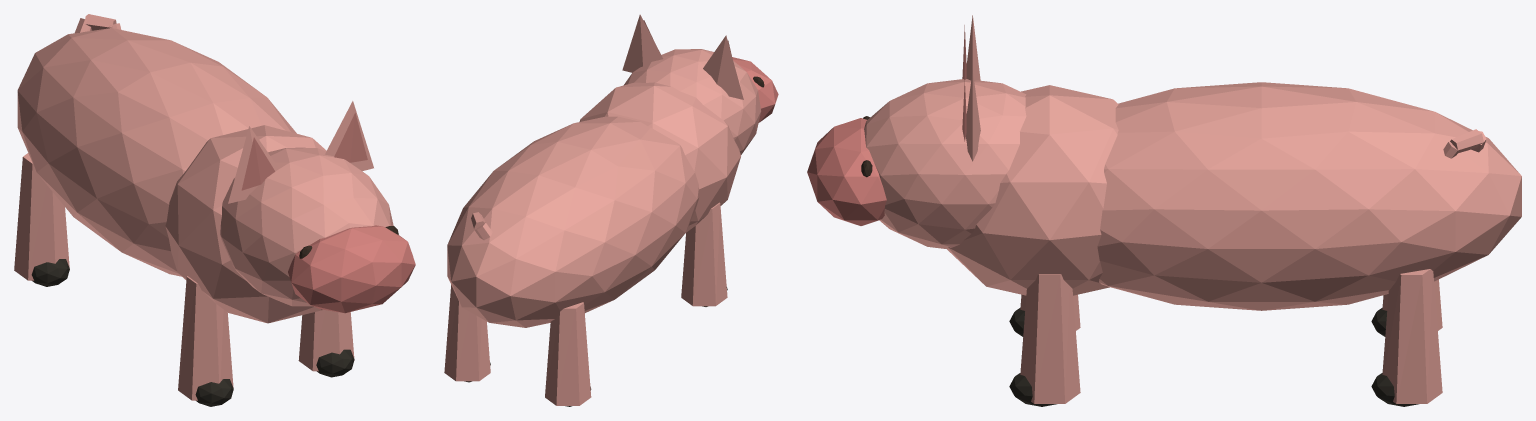
File: low-poly-pig.glb
3 renders of one model, left to right at view 1: azimuth 30°, elevation 25°; view 2: azimuth 150°, elevation 25°; view 3: azimuth 270°, elevation 25°, orthographic. The views are drawn at different scales.
Visible parts, largest first — view 1: pig-body-mesh, pig-head-mesh, pig-chest-mesh, pig-muzzle-mesh, pig-leg-front-left-shaft-mesh, pig-leg-rear-left-shaft-mesh, pig-leg-front-right-shaft-mesh, pig-ear-left-outer-mesh, pig-ear-left-inner-mesh, pig-ear-right-inner-mesh, pig-ear-right-outer-mesh, pig-leg-rear-left-foot-shape-mesh (+3 smaller); view 2: pig-body-mesh, pig-chest-mesh, pig-head-mesh, pig-leg-rear-left-shaft-mesh, pig-leg-front-left-shaft-mesh, pig-leg-rear-right-shaft-mesh, pig-ear-left-outer-mesh, pig-ear-right-outer-mesh, pig-muzzle-mesh; view 3: pig-body-mesh, pig-chest-mesh, pig-head-mesh, pig-leg-rear-right-shaft-mesh, pig-leg-front-right-shaft-mesh, pig-muzzle-mesh, pig-ear-right-outer-mesh.
Boxes of the visible parts, x1,y1,x2,y2 form: pig-body-mesh: (17, 28, 296, 276); pig-head-mesh: (220, 147, 393, 306); pig-chest-mesh: (165, 125, 326, 323); pig-muzzle-mesh: (288, 225, 415, 313); pig-leg-front-left-shaft-mesh: (178, 276, 233, 400); pig-leg-rear-left-shaft-mesh: (14, 153, 69, 280); pig-leg-front-right-shaft-mesh: (298, 309, 354, 371); pig-ear-left-outer-mesh: (228, 126, 276, 203); pig-ear-left-inner-mesh: (241, 137, 275, 190); pig-ear-right-inner-mesh: (334, 112, 367, 162); pig-ear-right-outer-mesh: (325, 101, 373, 170); pig-leg-rear-left-foot-shape-mesh: (31, 259, 69, 286); pig-body-mesh: (447, 116, 699, 327); pig-chest-mesh: (579, 82, 740, 232); pig-head-mesh: (623, 49, 761, 154); pig-leg-rear-left-shaft-mesh: (545, 302, 591, 405); pig-leg-front-left-shaft-mesh: (681, 202, 727, 306); pig-leg-rear-right-shaft-mesh: (444, 285, 490, 381); pig-ear-left-outer-mesh: (703, 35, 743, 99); pig-ear-right-outer-mesh: (622, 14, 663, 72); pig-muzzle-mesh: (732, 57, 778, 122); pig-body-mesh: (1097, 82, 1521, 310); pig-chest-mesh: (947, 85, 1118, 295); pig-head-mesh: (864, 79, 1026, 249); pig-leg-rear-right-shaft-mesh: (1382, 269, 1442, 403); pig-leg-front-right-shaft-mesh: (1020, 274, 1080, 403); pig-muzzle-mesh: (807, 118, 886, 225); pig-ear-right-outer-mesh: (966, 71, 980, 161).
Bounding box in the file's own units: 0.6754 × 0.9865 × 1.94.
